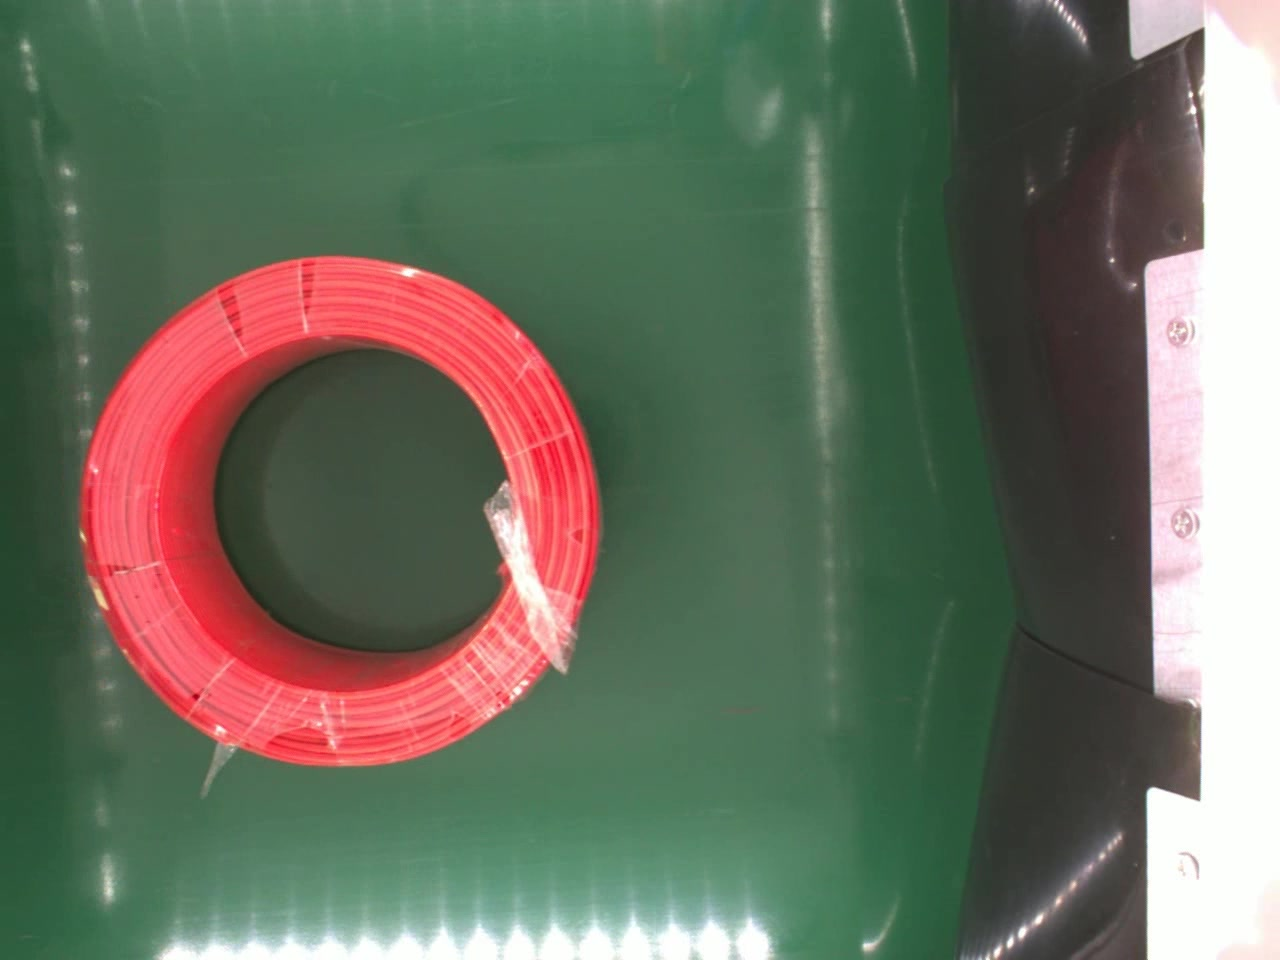red: (74, 253, 601, 772)
